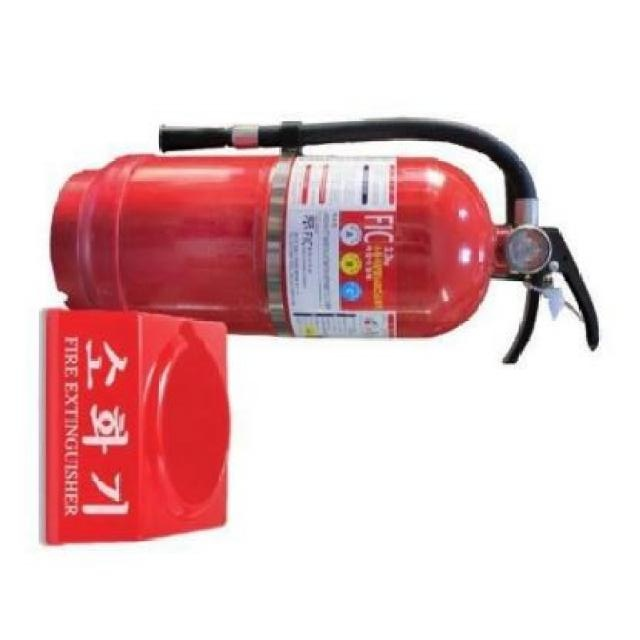fire extinguisher: (46, 118, 602, 365)
